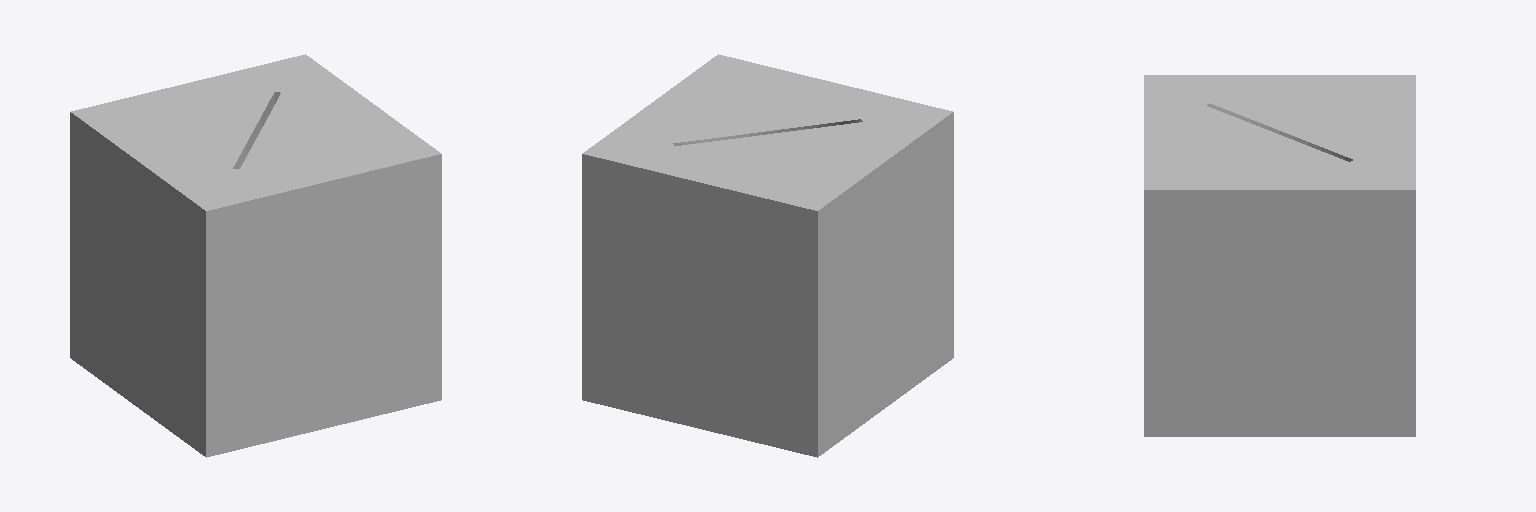
Rendered from Circle_cube_bottle.obj.
3 views of the same model, side by side, from view 1: azimuth 30°, elevation 25°; view 2: azimuth 150°, elevation 25°; view 3: azimuth 270°, elevation 25° (orthographic).
Visible parts, largest first — view 1: Bottle_Cube; view 2: Bottle_Cube; view 3: Bottle_Cube.
Part boxes in pixels (x1,y1,x2,y2): Bottle_Cube: (70,54,441,457); Bottle_Cube: (582,54,953,457); Bottle_Cube: (1144,75,1415,436).
Size of the model in its own units: 0.08 by 0.08 by 0.08.